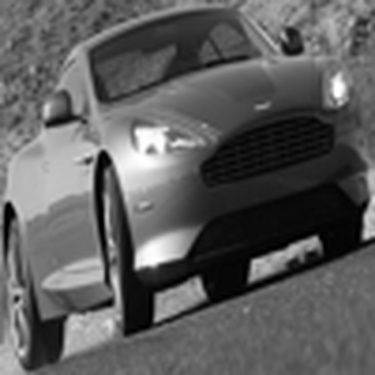car: (8, 1, 358, 343)
